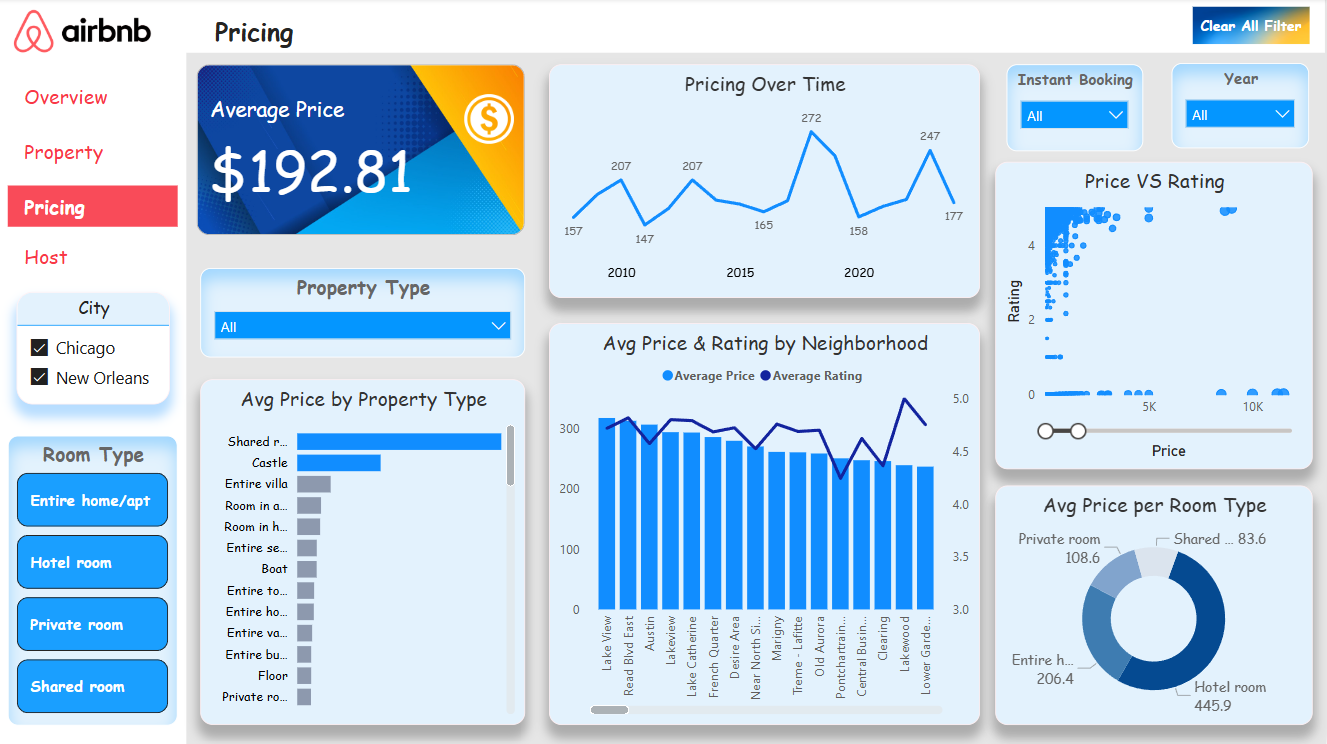

This screenshot's page, from the dashboard's own definition file:
{"tool":"powerbi","page":{"name":"Pricing analysis","canvas":[1280,720],"ordinal":2},"visuals":[{"type":"shape","title":"navigator","box":[0,0,181,720.2],"z":0},{"type":"shape","title":"header","box":[172.5,0,1107.5,53.1],"z":1000},{"type":"textbox","box":[181,8.4,155.6,44.6],"z":2000},{"type":"actionButton","box":[8.4,74.8,164.1,39.8],"z":3000},{"type":"actionButton","box":[8.4,127.9,164.1,39.8],"z":4000},{"type":"actionButton","box":[8.4,181,164.1,39.8],"z":5000},{"type":"actionButton","box":[8.4,229.2,164.1,39.8],"z":6000},{"type":"image","box":[8.4,3.6,143.6,55.5],"z":7000},{"type":"cardVisual","fields":{"Data":["Avg(Cleaned_Airbnb_Data.price)"]},"box":[191,63.9,317.3,165.3],"z":8000},{"type":"lineClusteredColumnComboChart","title":"Avg Price & Rating by Neighborhood","fields":{"Category":["Cleaned_Airbnb_Data.neighbourhood_cleansed"],"Y":["Avg(Cleaned_Airbnb_Data.price)"],"Y2":["Cleaned_Airbnb_Data.Avg_Rating_Filtered"]},"box":[530.7,314,416.2,387.8],"z":10000},{"type":"slicer","title":"Property Type","fields":{"Values":["Cleaned_Airbnb_Data.property_type"]},"box":[194,260.7,314,86.1],"z":11000},{"type":"scatterChart","title":"Price VS Rating","fields":{"X":["Cleaned_Airbnb_Data.price"],"Y":["Cleaned_Airbnb_Data.review_scores_value"],"Size":["Avg(Cleaned_Airbnb_Data.price)"]},"box":[961.6,157.6,306.6,296.7],"z":11500},{"type":"slicer","title":"City","fields":{"Values":["Cleaned_Airbnb_Data.City"]},"box":[17,283.7,147.9,109.1],"z":12000},{"type":"advancedSlicerVisual","title":"Room Type","fields":{"Values":["Cleaned_Airbnb_Data.room_type"]},"box":[8.4,422.3,164.1,279.9],"z":13000},{"type":"slicer","title":"Year","fields":{"Values":["Cleaned_Airbnb_Data.host_since.Variation.Date Hierarchy.Year"]},"box":[1131.7,63.3,133.1,82.7],"z":14000},{"type":"lineChart","title":"Pricing Over Time","fields":{"Category":["Cleaned_Airbnb_Data.host_since.Variation.Date Hierarchy.Year","Cleaned_Airbnb_Data.host_since.Variation.Date Hierarchy.Quarter","Cleaned_Airbnb_Data.host_since.Variation.Date Hierarchy.Month","Cleaned_Airbnb_Data.host_since.Variation.Date Hierarchy.Day"],"Y":["Avg(Cleaned_Airbnb_Data.price)"]},"box":[530.7,64,416.2,225.3],"z":15000},{"type":"slicer","title":"Instant Booking","fields":{"Values":["Cleaned_Airbnb_Data.instant_bookable"]},"box":[972.7,64,131.7,83.7],"z":17000},{"type":"donutChart","title":"Avg Price per Room Type","fields":{"Y":["Avg(Cleaned_Airbnb_Data.price)"],"Category":["Cleaned_Airbnb_Data.room_type"]},"box":[961.6,470.3,306.6,231.5],"z":17500},{"type":"clusteredBarChart","title":"Avg Price by Property Type","fields":{"Category":["Cleaned_Airbnb_Data.property_type"],"Y":["Avg(Cleaned_Airbnb_Data.price)"]},"box":[194.5,368.1,314,333.7],"z":18000},{"type":"actionButton","box":[1152.1,8.5,112.4,36.3],"z":19000}]}

Visuals, with their boxes in screenshot pixels (x1, y1, x2, y2), scaled from the page's 1280x720 canvas onto the 1327x744 screenshot:
"navigator" shape: crop(0, 0, 188, 743)
"header" shape: crop(179, 0, 1326, 55)
textbox: crop(188, 9, 349, 55)
actionButton: crop(9, 77, 179, 118)
actionButton: crop(9, 132, 179, 173)
actionButton: crop(9, 187, 179, 228)
actionButton: crop(9, 237, 179, 278)
image: crop(9, 4, 158, 61)
cardVisual - Avg(Cleaned_Airbnb_Data.price): crop(198, 66, 527, 237)
"Avg Price & Rating by Neighborhood" lineClusteredColumnComboChart: crop(550, 324, 982, 725)
"Property Type" slicer: crop(201, 269, 527, 358)
"Price VS Rating" scatterChart: crop(997, 163, 1315, 469)
"City" slicer: crop(18, 293, 171, 406)
"Room Type" advancedSlicerVisual: crop(9, 436, 179, 726)
"Year" slicer: crop(1173, 65, 1311, 151)
"Pricing Over Time" lineChart: crop(550, 66, 982, 299)
"Instant Booking" slicer: crop(1008, 66, 1145, 153)
"Avg Price per Room Type" donutChart: crop(997, 486, 1315, 725)
"Avg Price by Property Type" clusteredBarChart: crop(202, 380, 527, 725)
actionButton: crop(1194, 9, 1311, 46)
